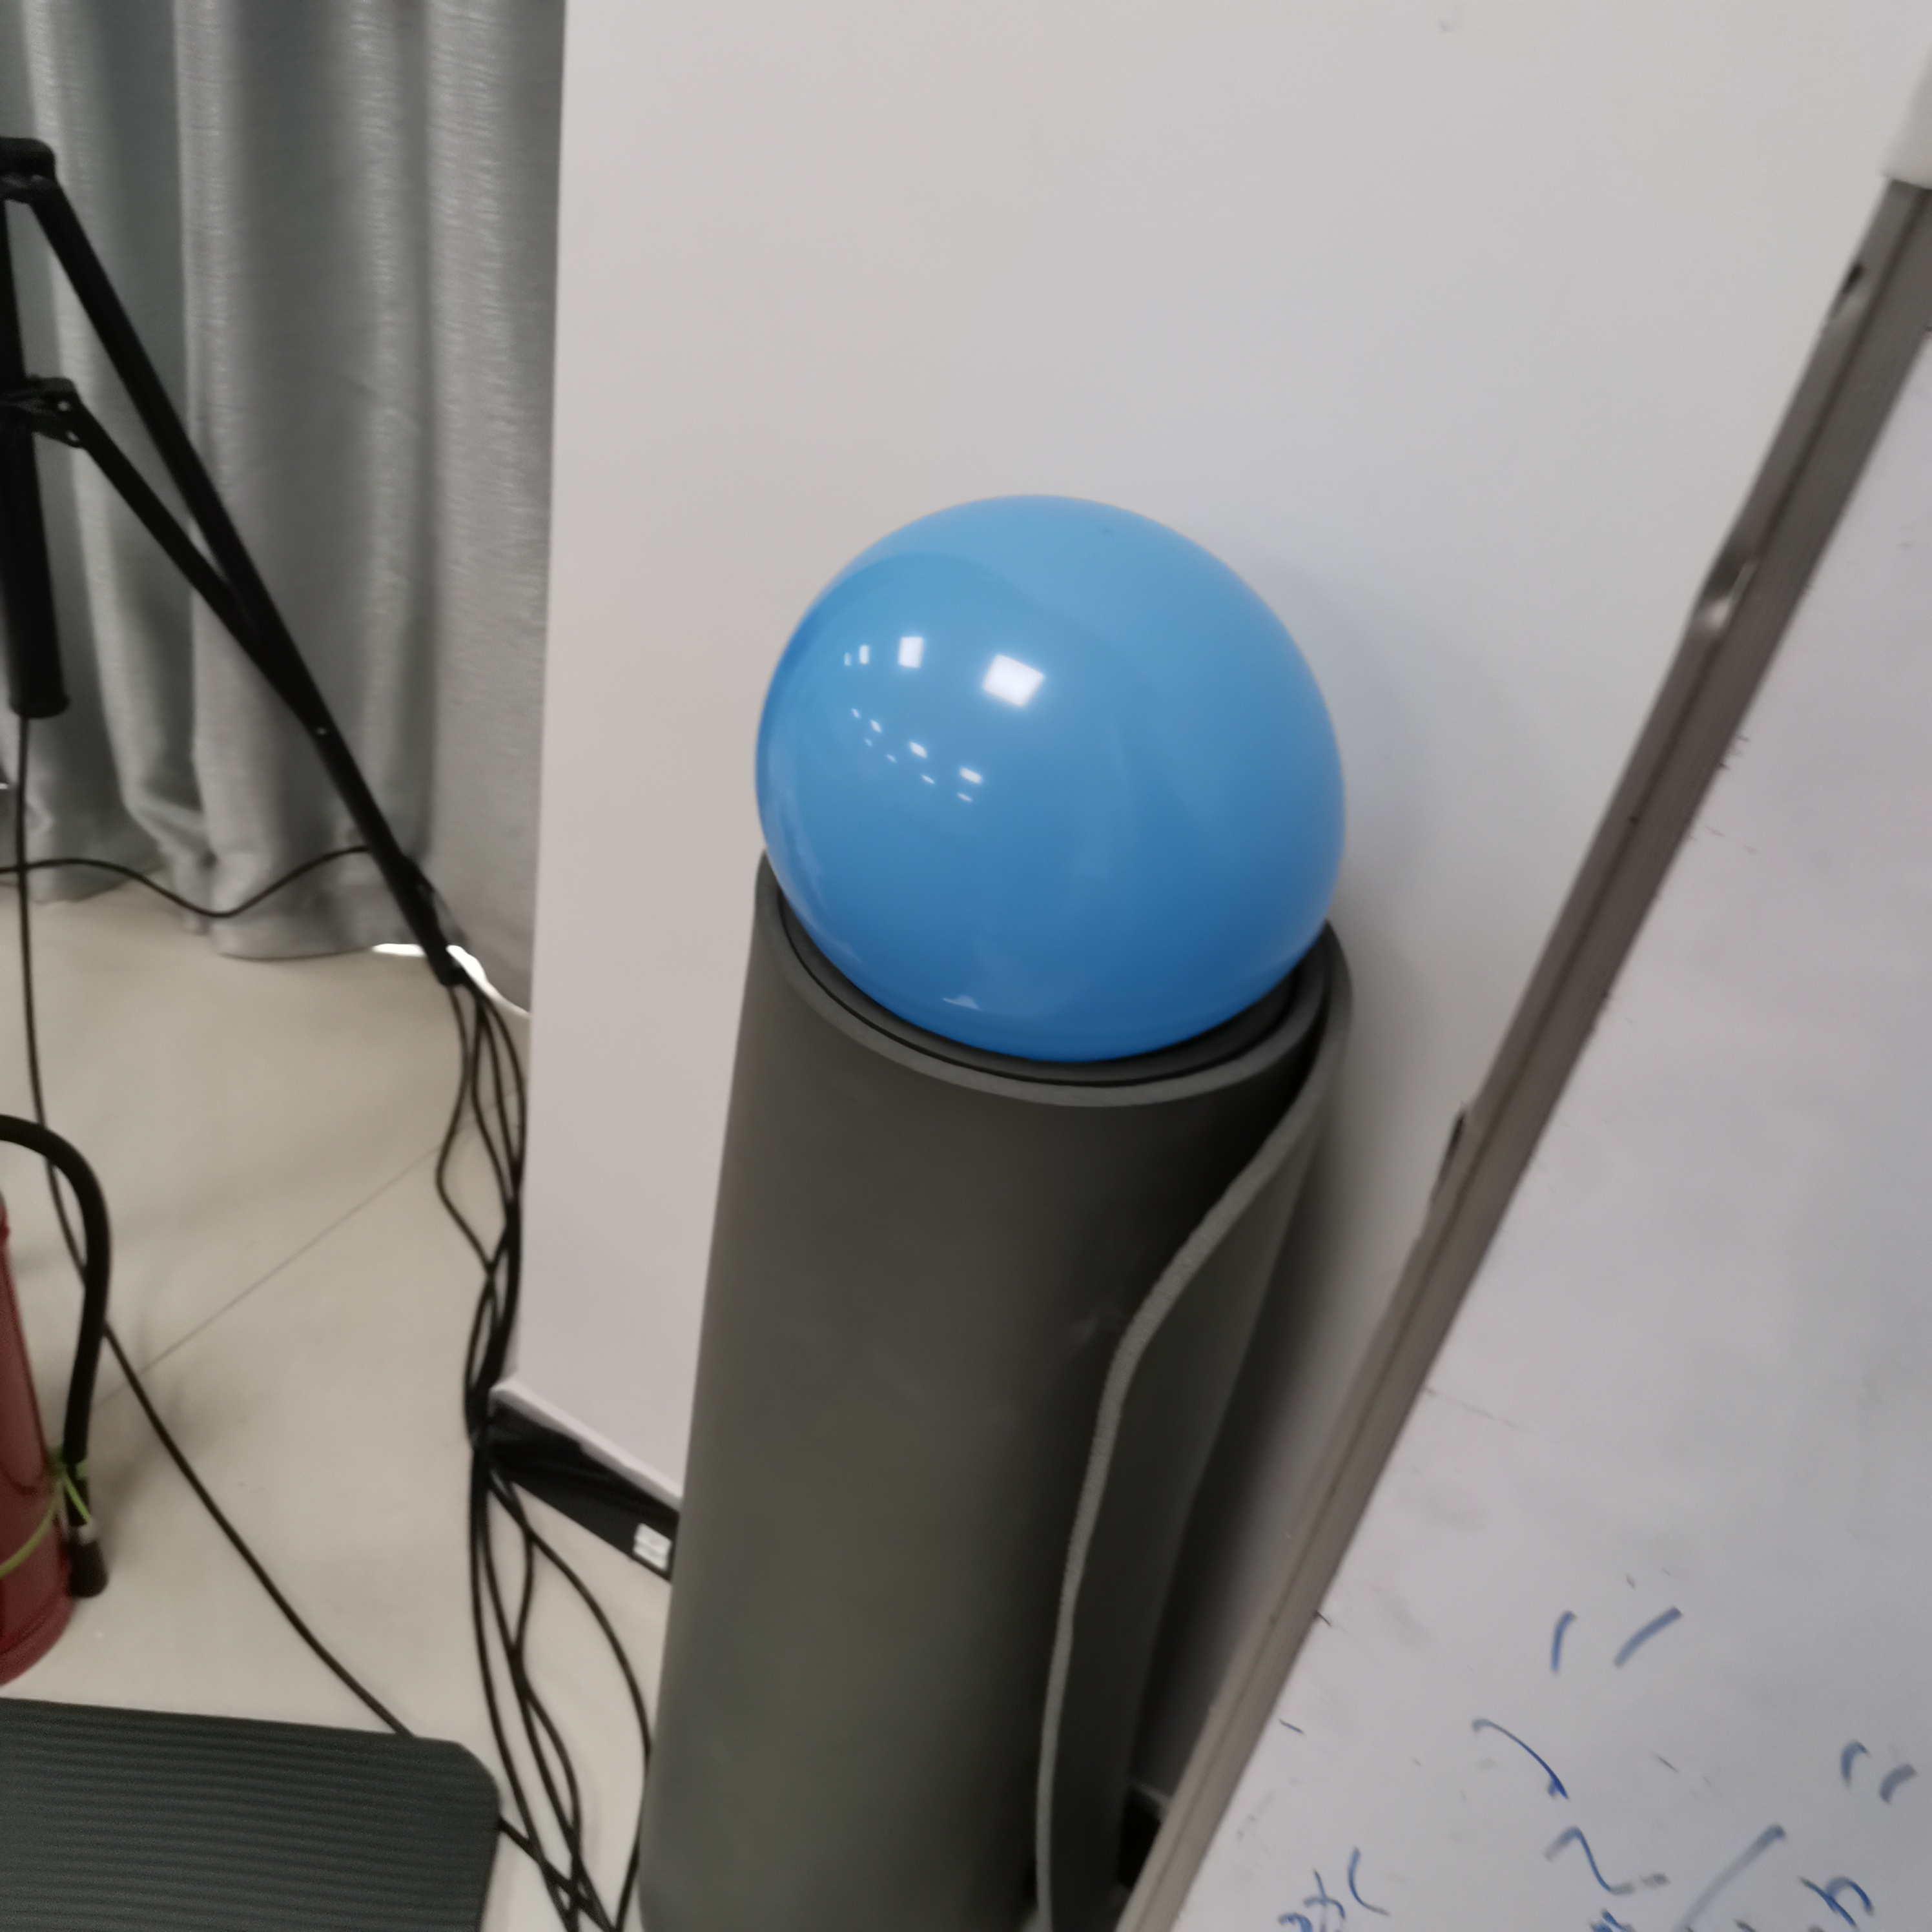balloon: (757, 495, 1353, 1063)
